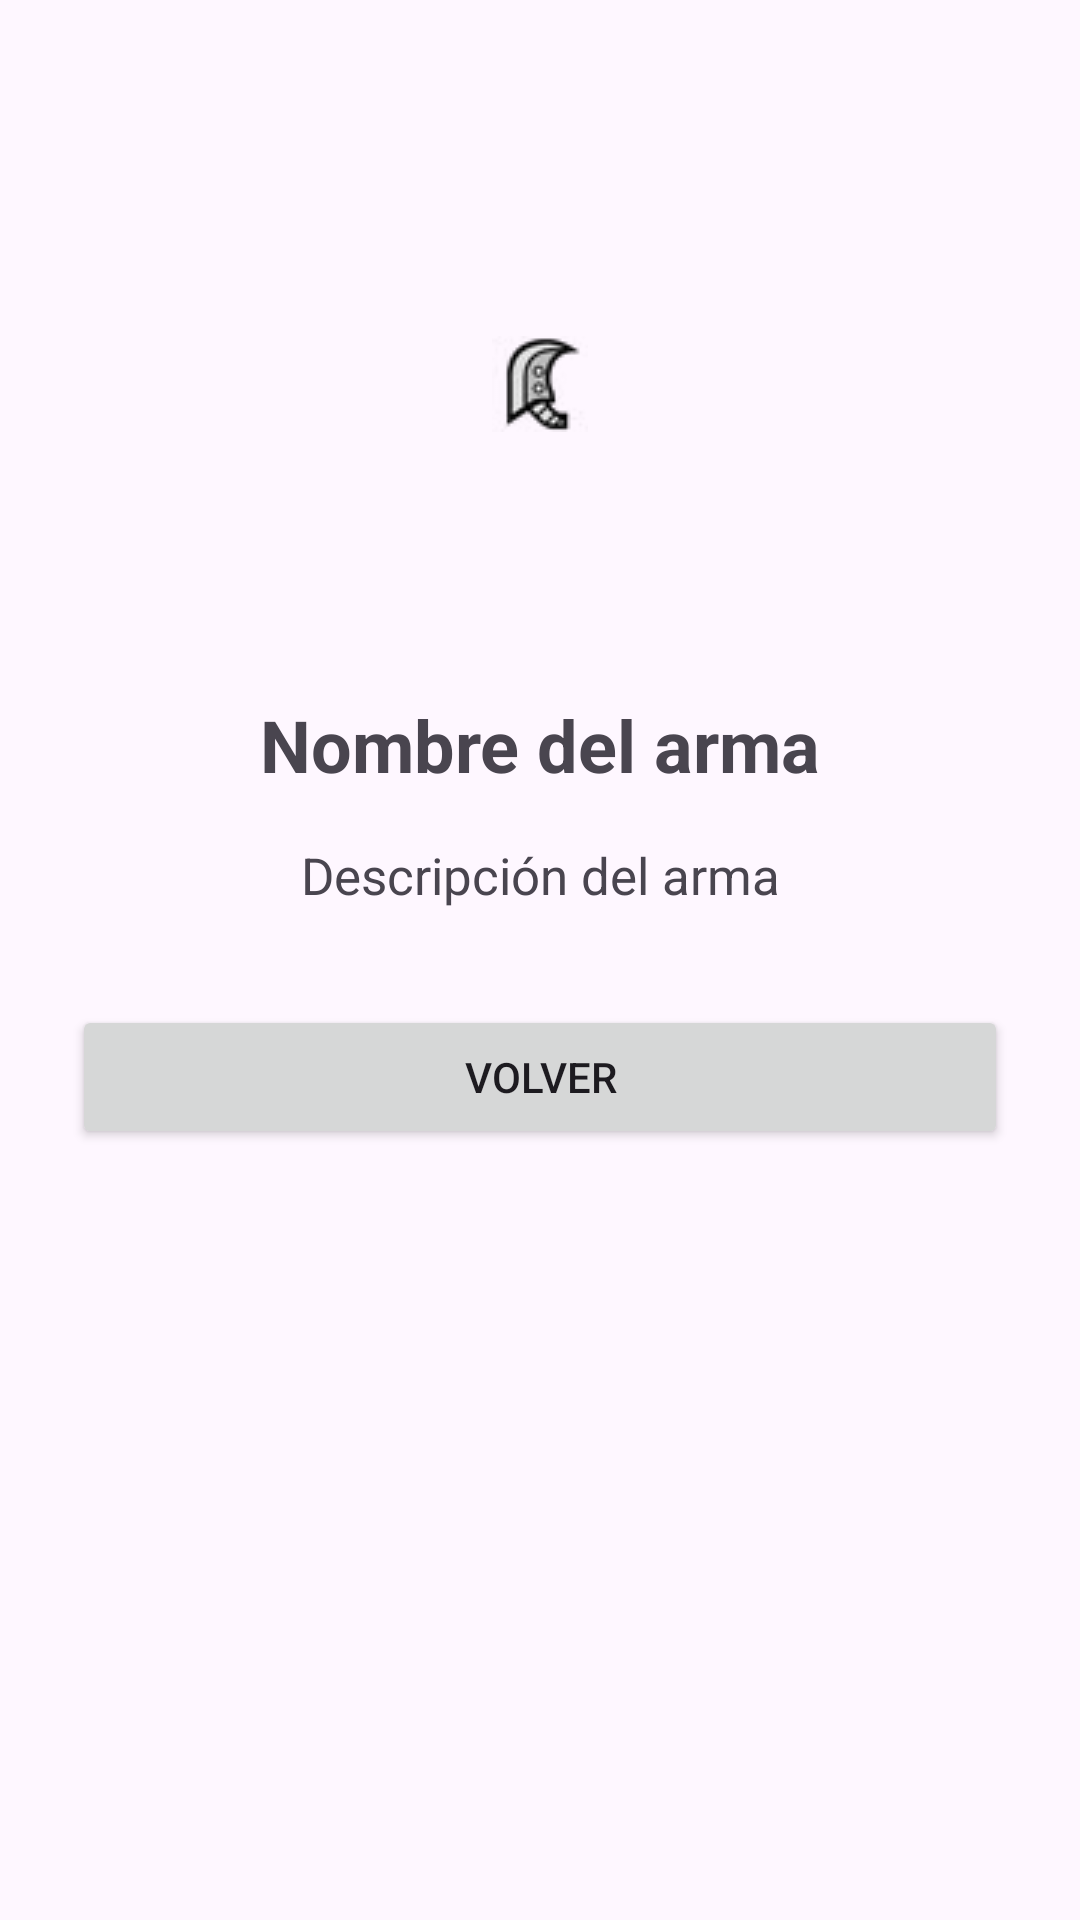

Screen size 1080 x 1920. Icon name, then its center in pixels as point (x, y):
granespada: point (542, 384)
